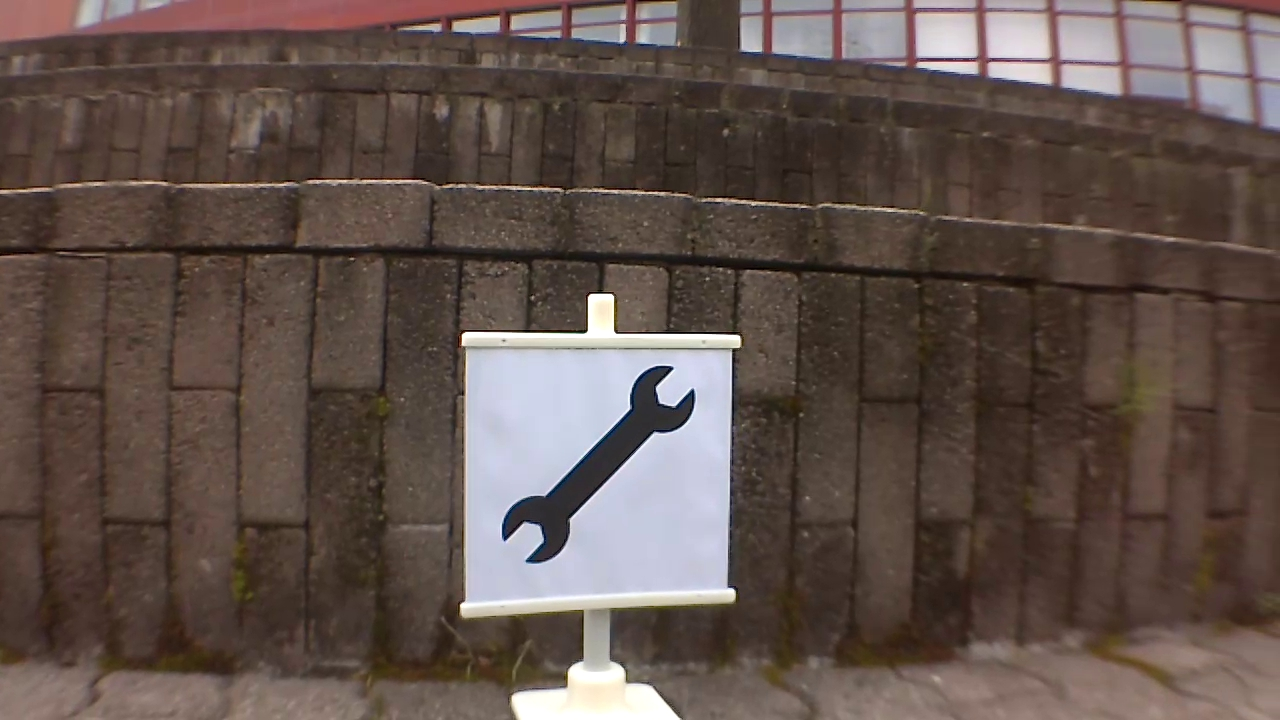wrench: (500, 365, 708, 564)
